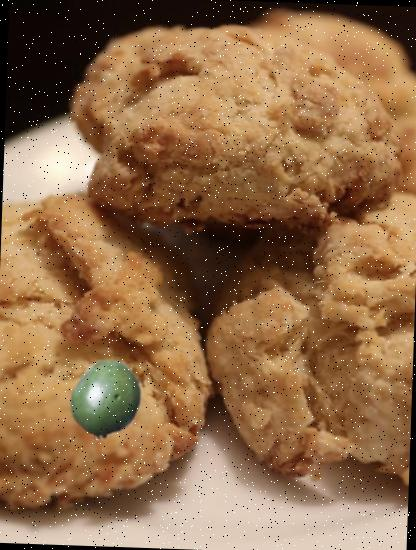Mango: (64, 358, 148, 442)
